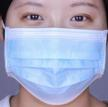with_mask: (1, 1, 108, 107)
